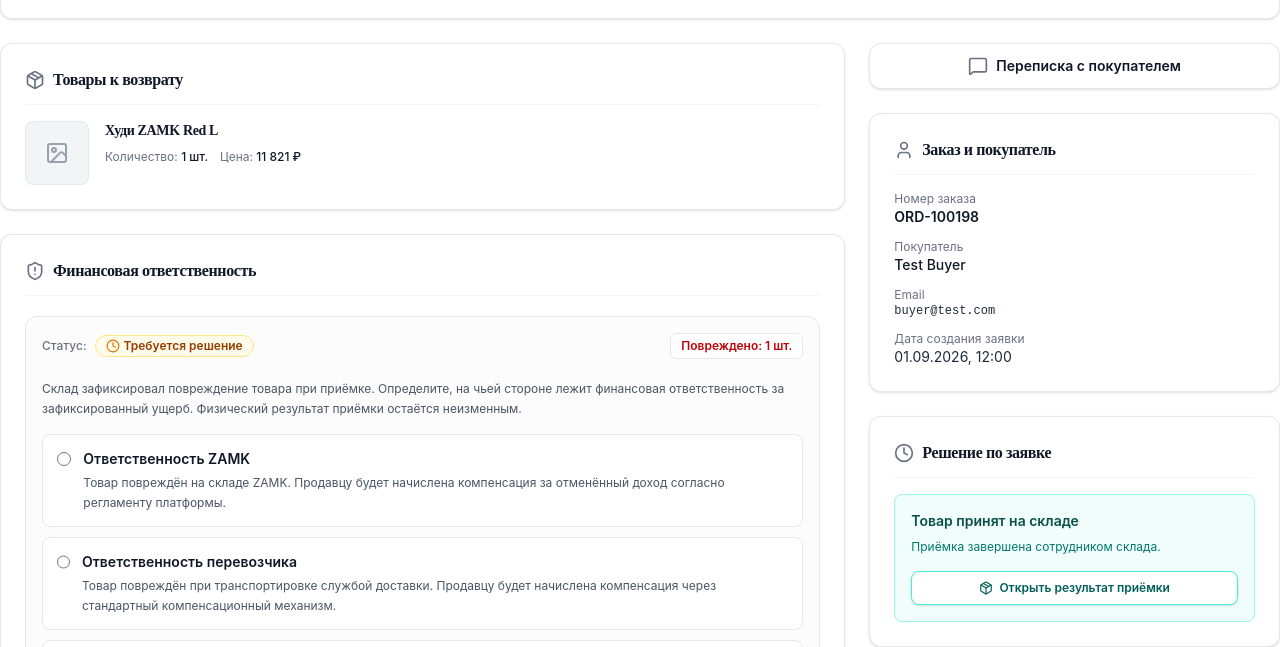
Admin Returns Financial Responsibility UI (SA.5.3B) › J: API error does not leave fake resolved state and displays error banner
Expected: the label with test id "choice-zamk" is shown, [42,434,803,527]
What coordinates should you click on to do the following:
click the 1st radio button
I would click on:
 (64, 459)
Its box is [57,451,71,467].
(page scrolled)
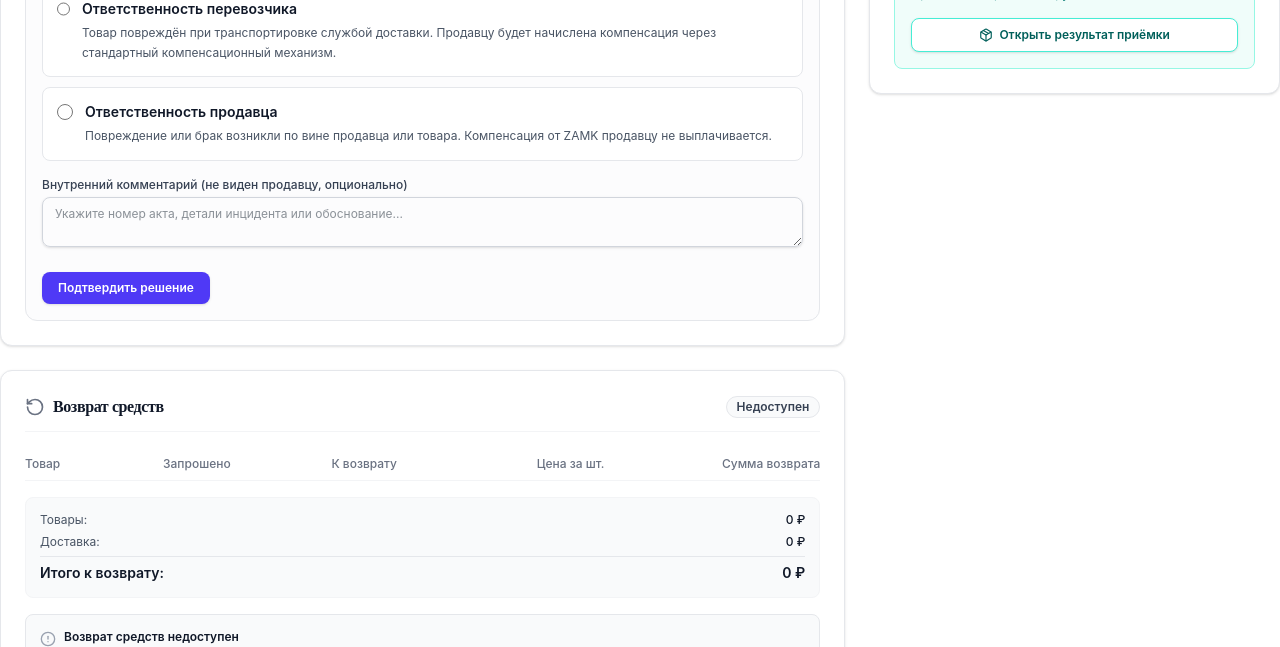
What coordinates should you click on to do the following:
click the button with test id "btn-submit-responsibility"
I would click on:
 (126, 288)
Its box is [42,272,210,304].
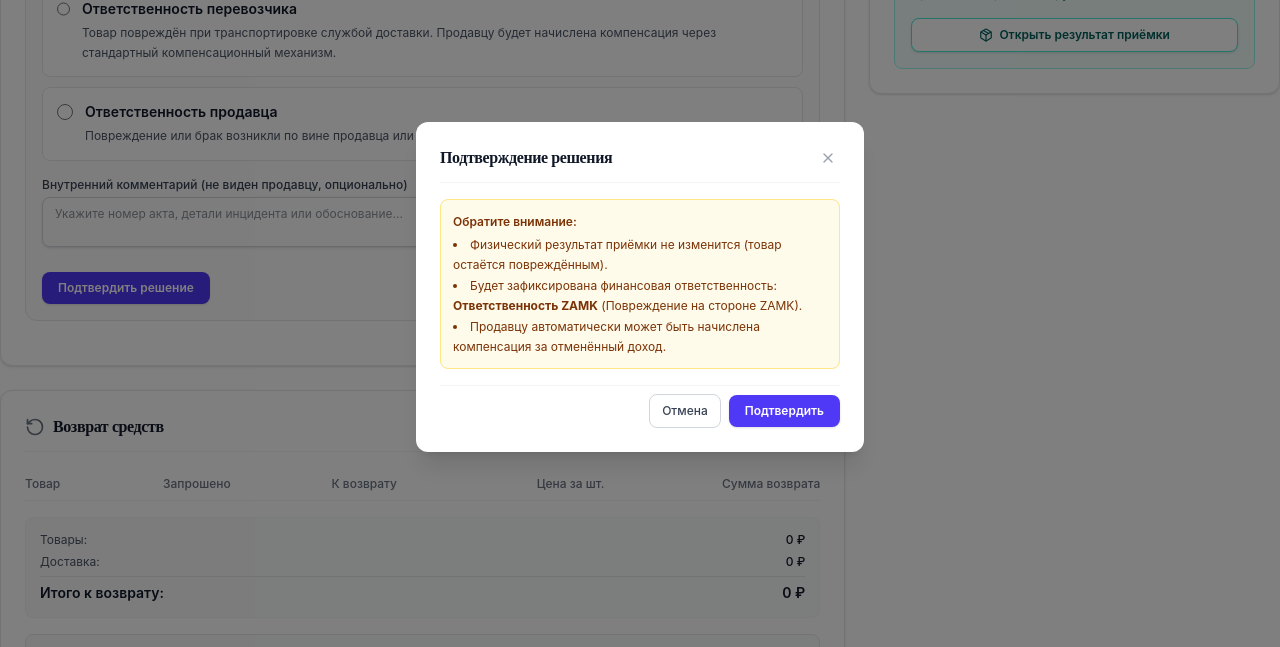
What coordinates should you click on to do the following:
click the button with test id "btn-modal-confirm"
I would click on:
 (784, 411)
Its box is [729,395,840,427].
(page scrolled)
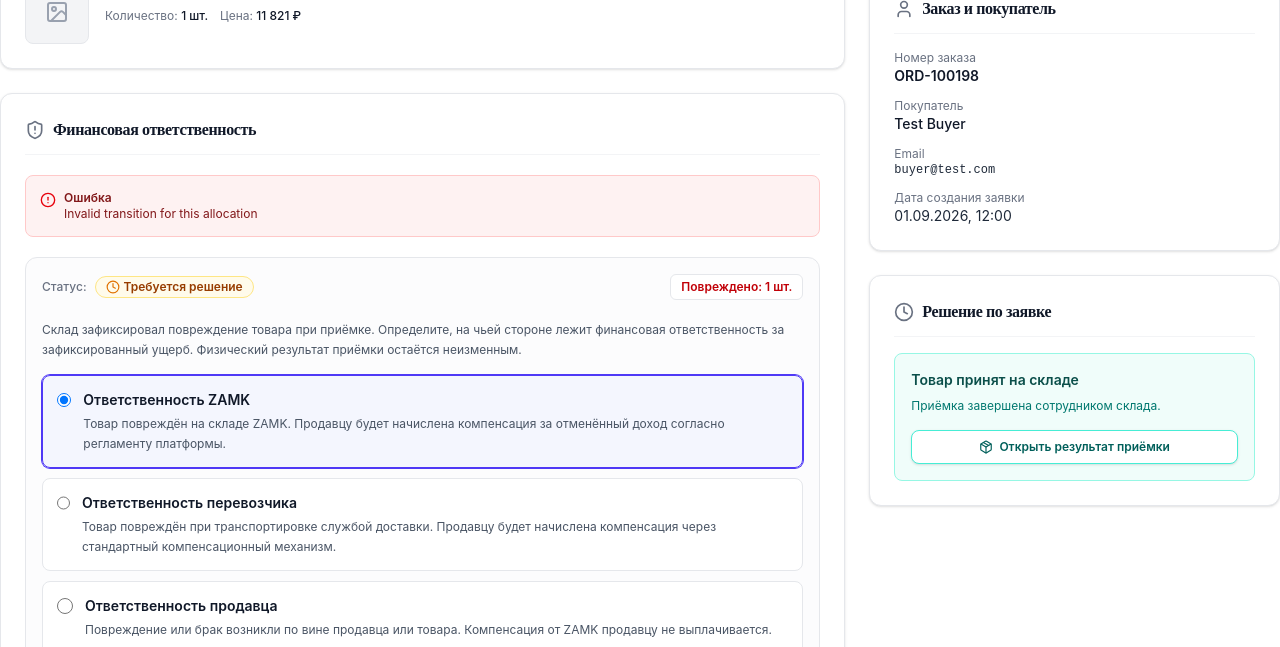
Expected: the element with test id "responsibility-status-badge" reads "Требуется решение", [124,279,243,294]
Now the element with test id "responsibility-error-banner" is shown, box [25,175,820,237]
Now the element with test id "responsibility-error-banner" shows "Invalid transition for this allocation", box [64,206,258,221]
